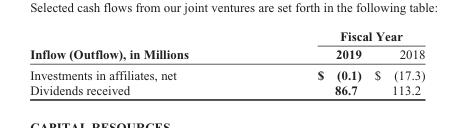table: (29, 28, 424, 97)
table column: (29, 28, 252, 97), (252, 28, 367, 97), (367, 28, 424, 97)
table column header: (29, 28, 424, 64)
table row: (29, 44, 424, 64), (29, 64, 424, 82), (29, 28, 424, 44), (29, 82, 424, 97)
table spanning cell: (29, 28, 252, 64), (252, 28, 424, 44)
